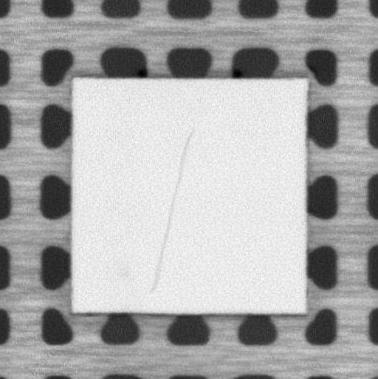DIE_CRACK: (151, 130, 196, 291)
